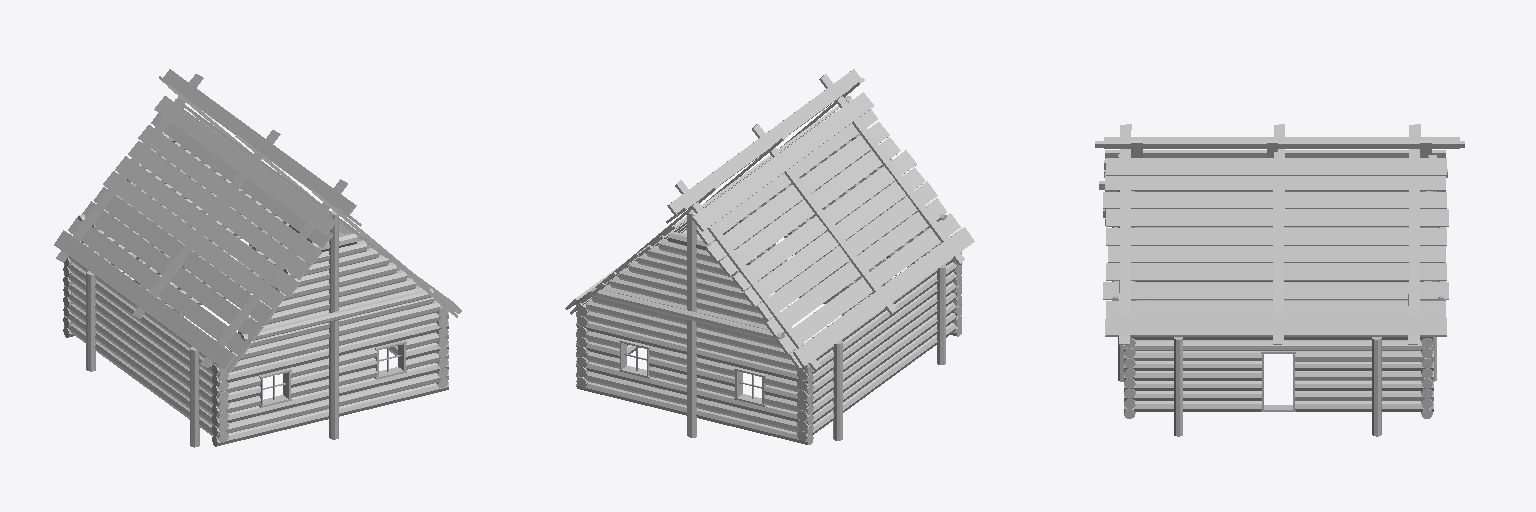
Rendered from cabin.obj.
3 renders of one model, left to right at view 1: azimuth 30°, elevation 25°; view 2: azimuth 150°, elevation 25°; view 3: azimuth 270°, elevation 25°, orthographic.
Parts seen in each view (by area): view 1: roof.001, logwall, wood2; view 2: roof.001, logwall, wood2; view 3: roof.001, logwall, wood2.
Part boxes in pixels (x1,y1,x2,y2): roof.001: (54, 69, 461, 372); logwall: (63, 99, 448, 447); wood2: (115, 236, 406, 407); roof.001: (565, 69, 974, 370); logwall: (576, 96, 961, 444); wood2: (619, 234, 910, 406); roof.001: (1095, 124, 1464, 344); logwall: (1112, 154, 1445, 436); wood2: (1261, 351, 1295, 411).
Size of the model in its own units: 8.72 by 8.31 by 11.26.